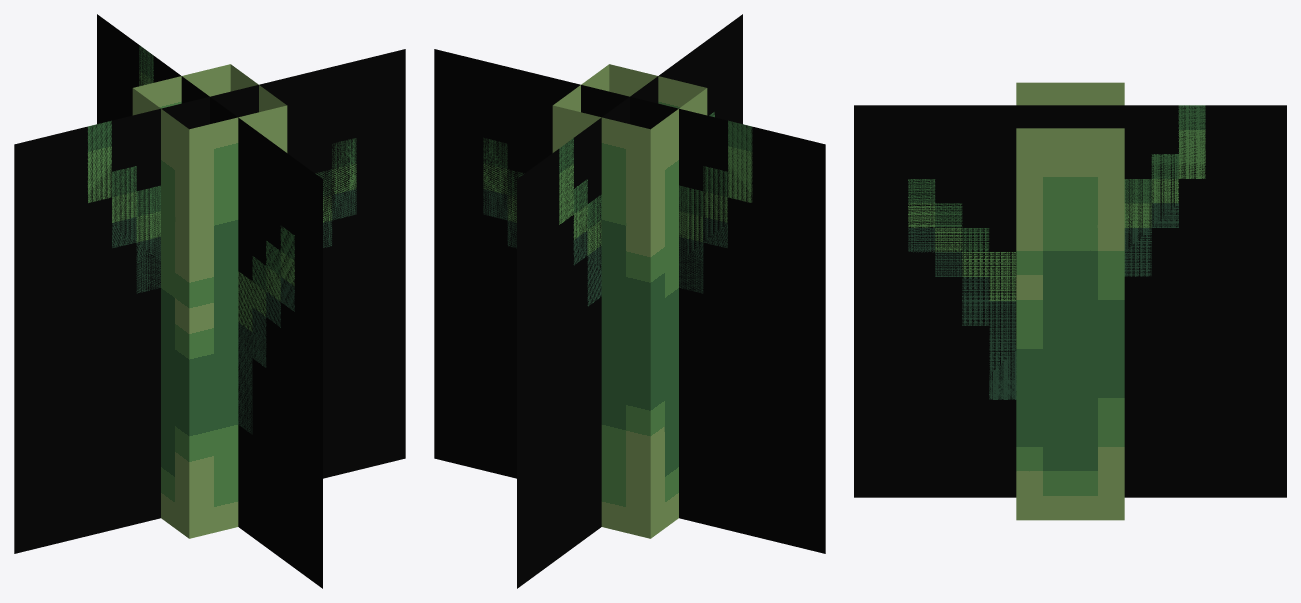
The model's file is wildfield_corn_stalk.obj.
3 renders of one model, left to right at view 1: azimuth 30°, elevation 25°; view 2: azimuth 150°, elevation 25°; view 3: azimuth 270°, elevation 25°, orthographic. The views are drawn at different scales.
Visible parts, largest first — view 1: bb_main; view 2: bb_main; view 3: bb_main.
Boxes of the visible parts, box(x1,y1,x2,y2) form: bb_main: box(14, 14, 405, 588); bb_main: box(434, 14, 825, 588); bb_main: box(854, 82, 1286, 520).
Size of the model in its own units: 1 by 1 by 1.
